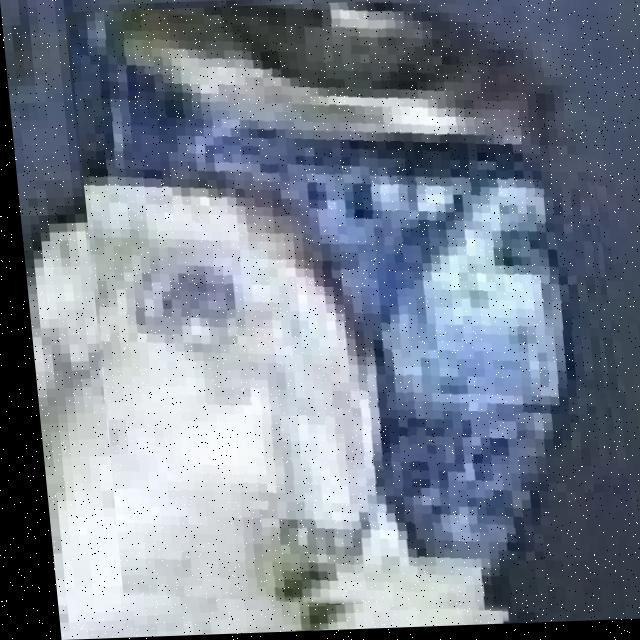can: (76, 2, 600, 617)
